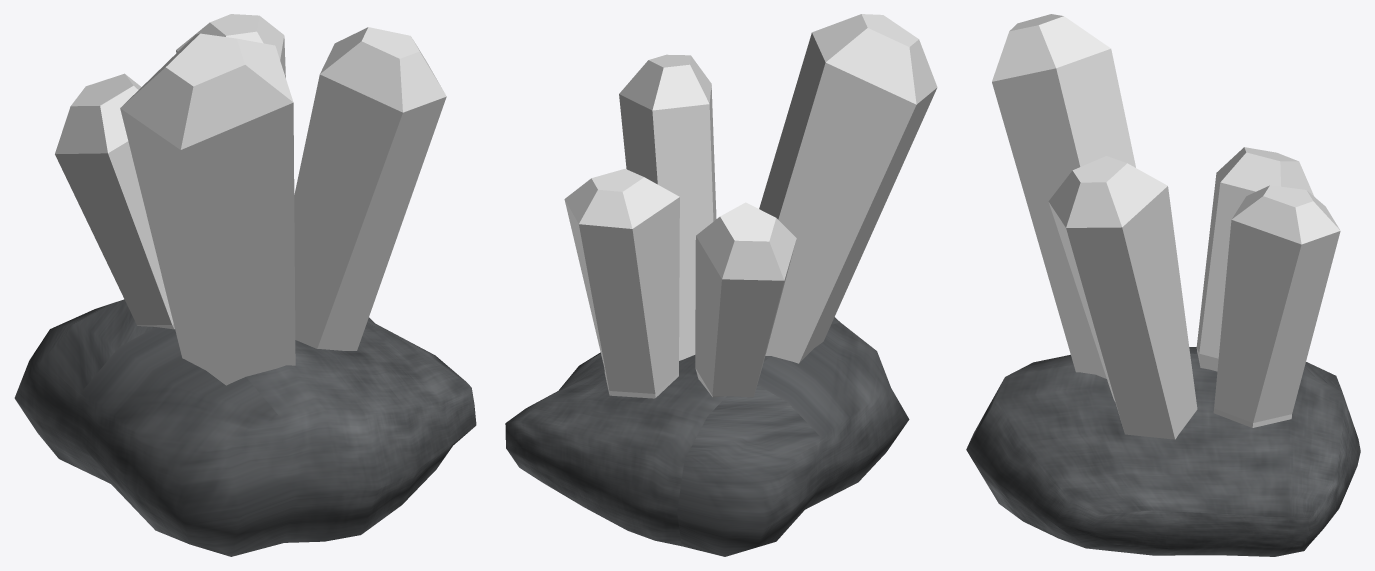
File: Kristal 1.fbx
3 renders of one model, left to right at view 1: azimuth 30°, elevation 25°; view 2: azimuth 150°, elevation 25°; view 3: azimuth 270°, elevation 25°, orthographic. The views are drawn at different scales.
Visible parts, largest first — view 1: pCylinder7, pCube2; view 2: pCylinder7, pCube2; view 3: pCylinder7, pCube2.
Part boxes in pixels (x1=…): pCylinder7: x1=55, y1=14, x2=446, y2=385; pCube2: x1=14, y1=299, x2=476, y2=556; pCylinder7: x1=564, y1=14, x2=937, y2=398; pCube2: x1=505, y1=317, x2=909, y2=556; pCylinder7: x1=992, y1=14, x2=1340, y2=439; pCube2: x1=966, y1=347, x2=1360, y2=556.
Bounding box in the file's own units: 3.6 × 5.03 × 3.96.
Materials: 2 (1 with a texture image).
